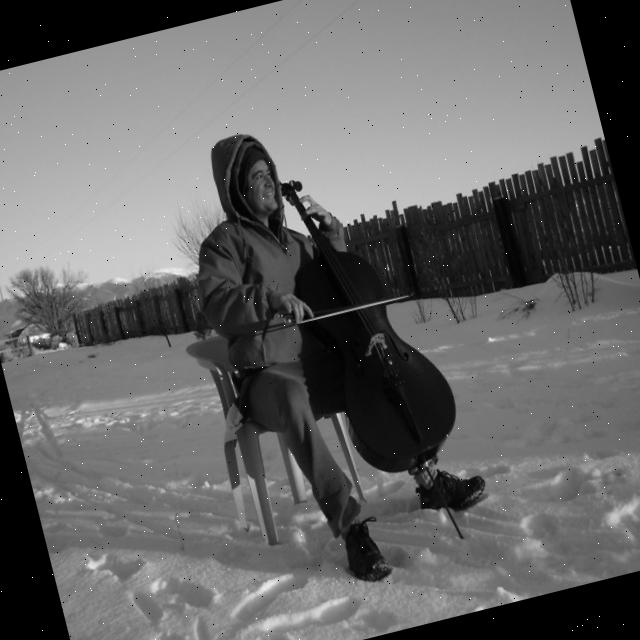cello: (268, 152, 472, 486)
